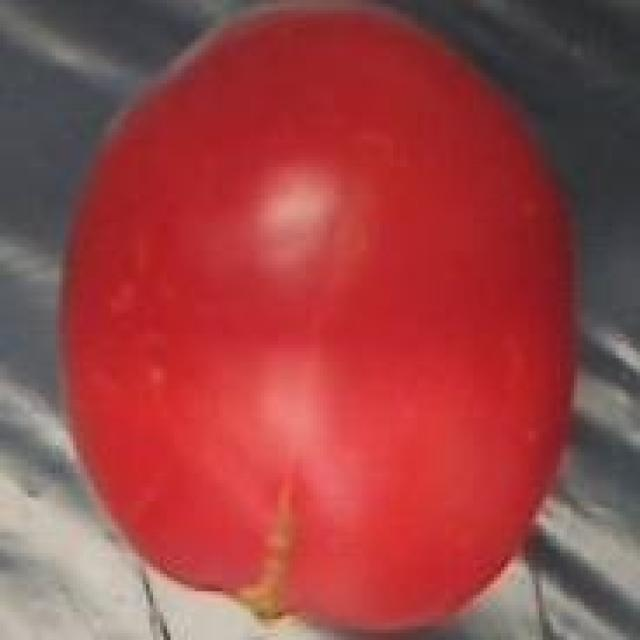overripe tomato: (52, 10, 595, 640)
